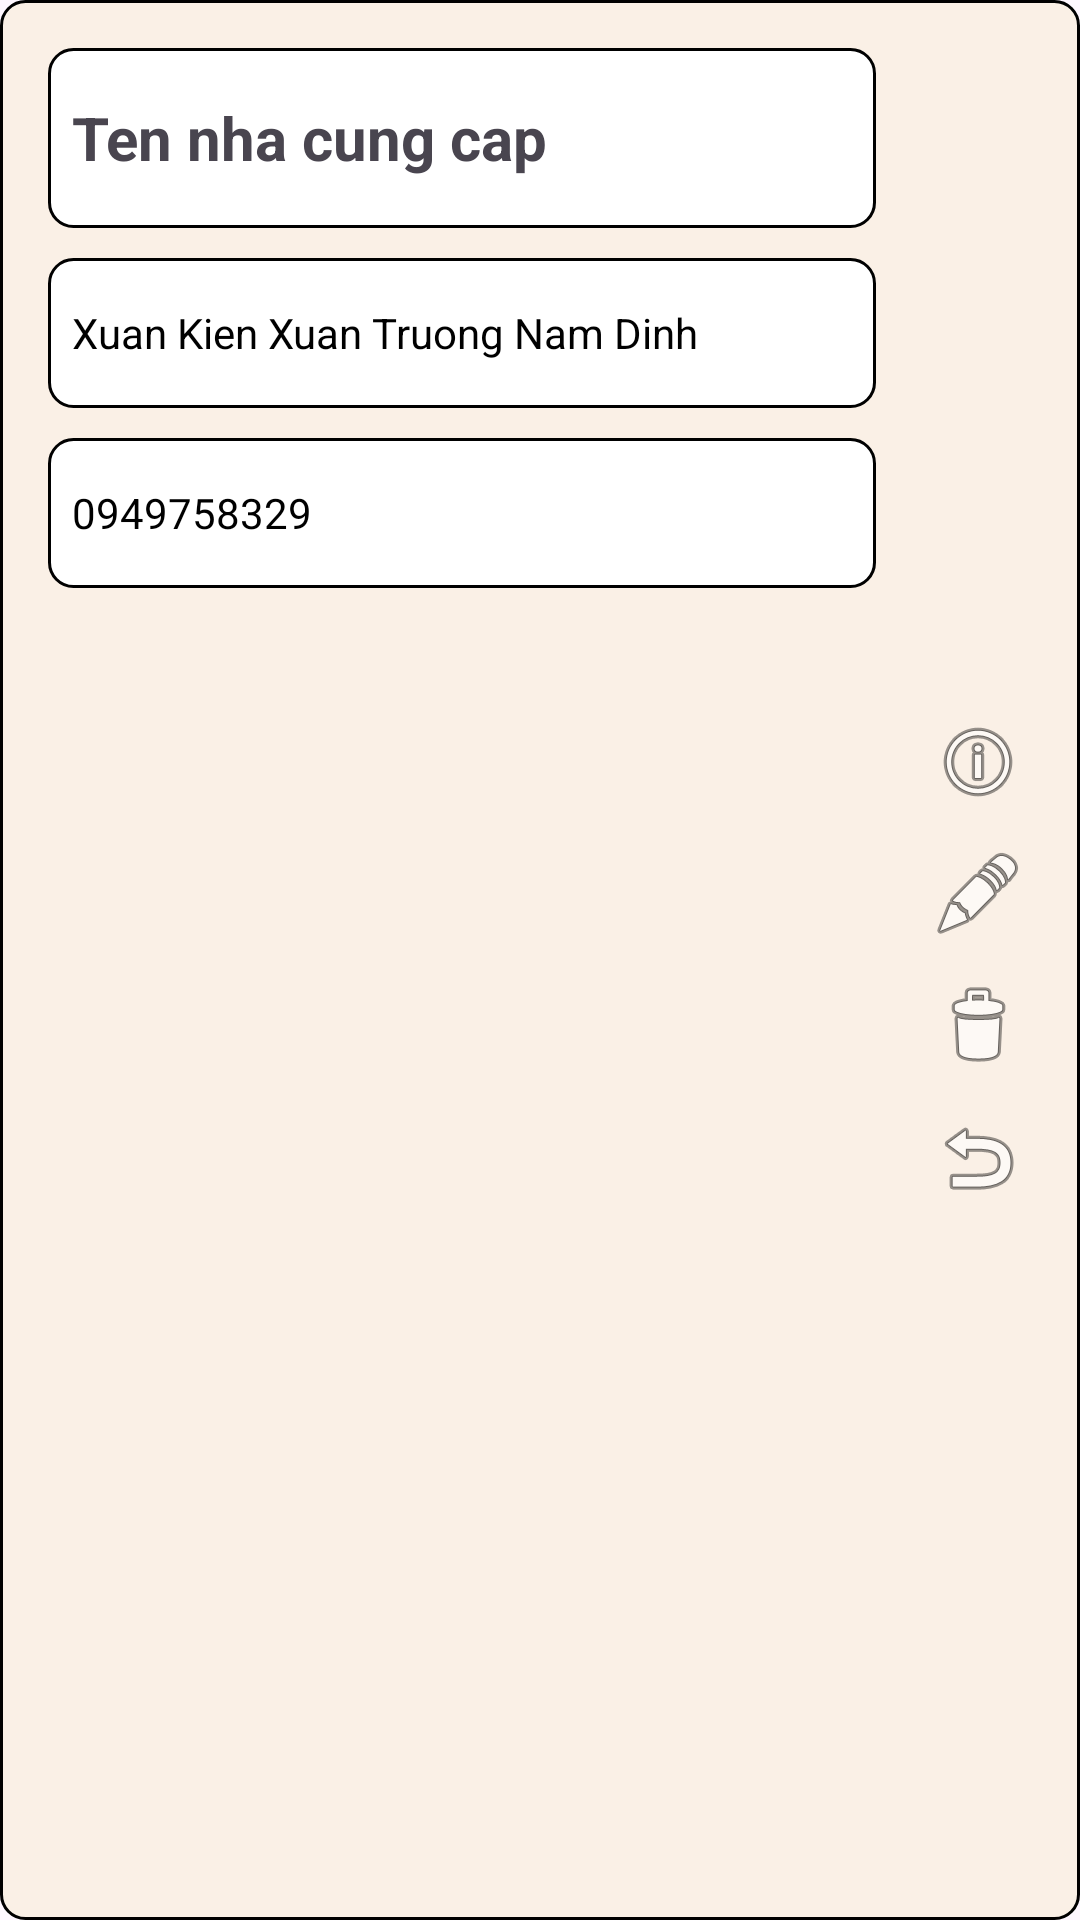

Screen size 1080x1920. Icon name, then its box in pixels as [x1,y1,x2,y2]:
Khôi phục: [945,1127,1014,1190]
Sửa: [937,853,1018,934]
Xem chi tiết: [943,727,1013,797]
Xóa: [951,987,1006,1062]
